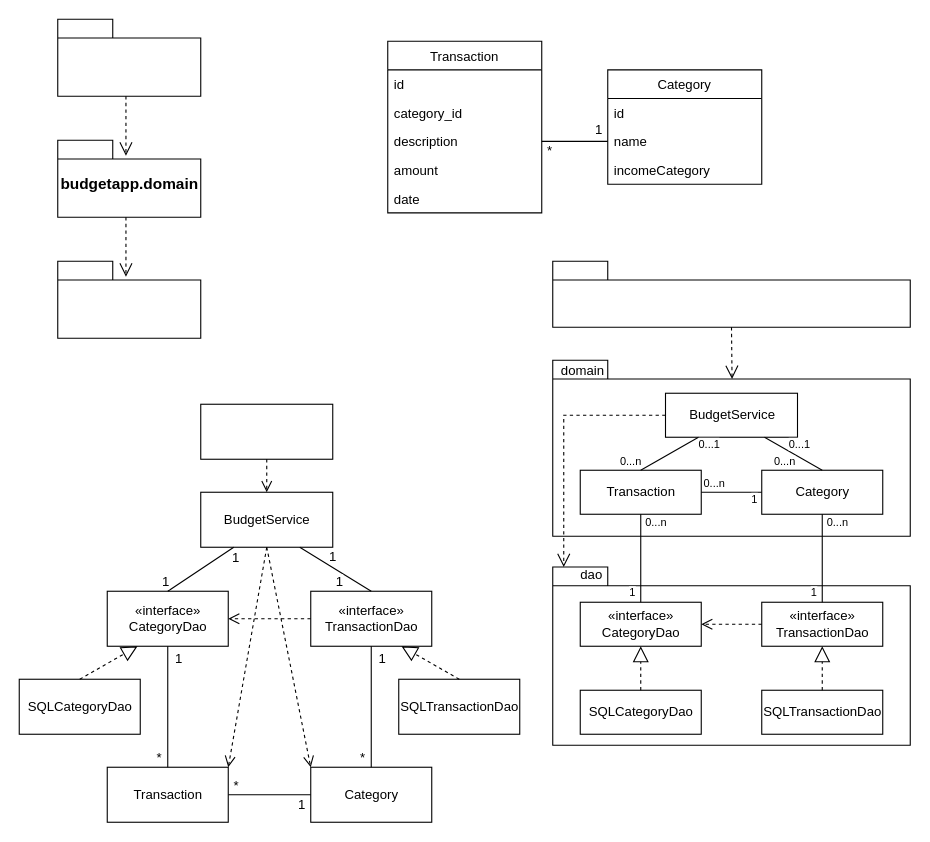
The diagram is 930 pixels wide and 842 high, and some of its shapes have lost their labels. The box of each missing label's shape, as (x1, y1, x2, y2) in pixels:
budgetapp.dao: (57, 260, 201, 338)
budgetapp.ui: (57, 18, 201, 96)
ui: (552, 260, 910, 327)
UserInterface: (200, 403, 333, 459)
